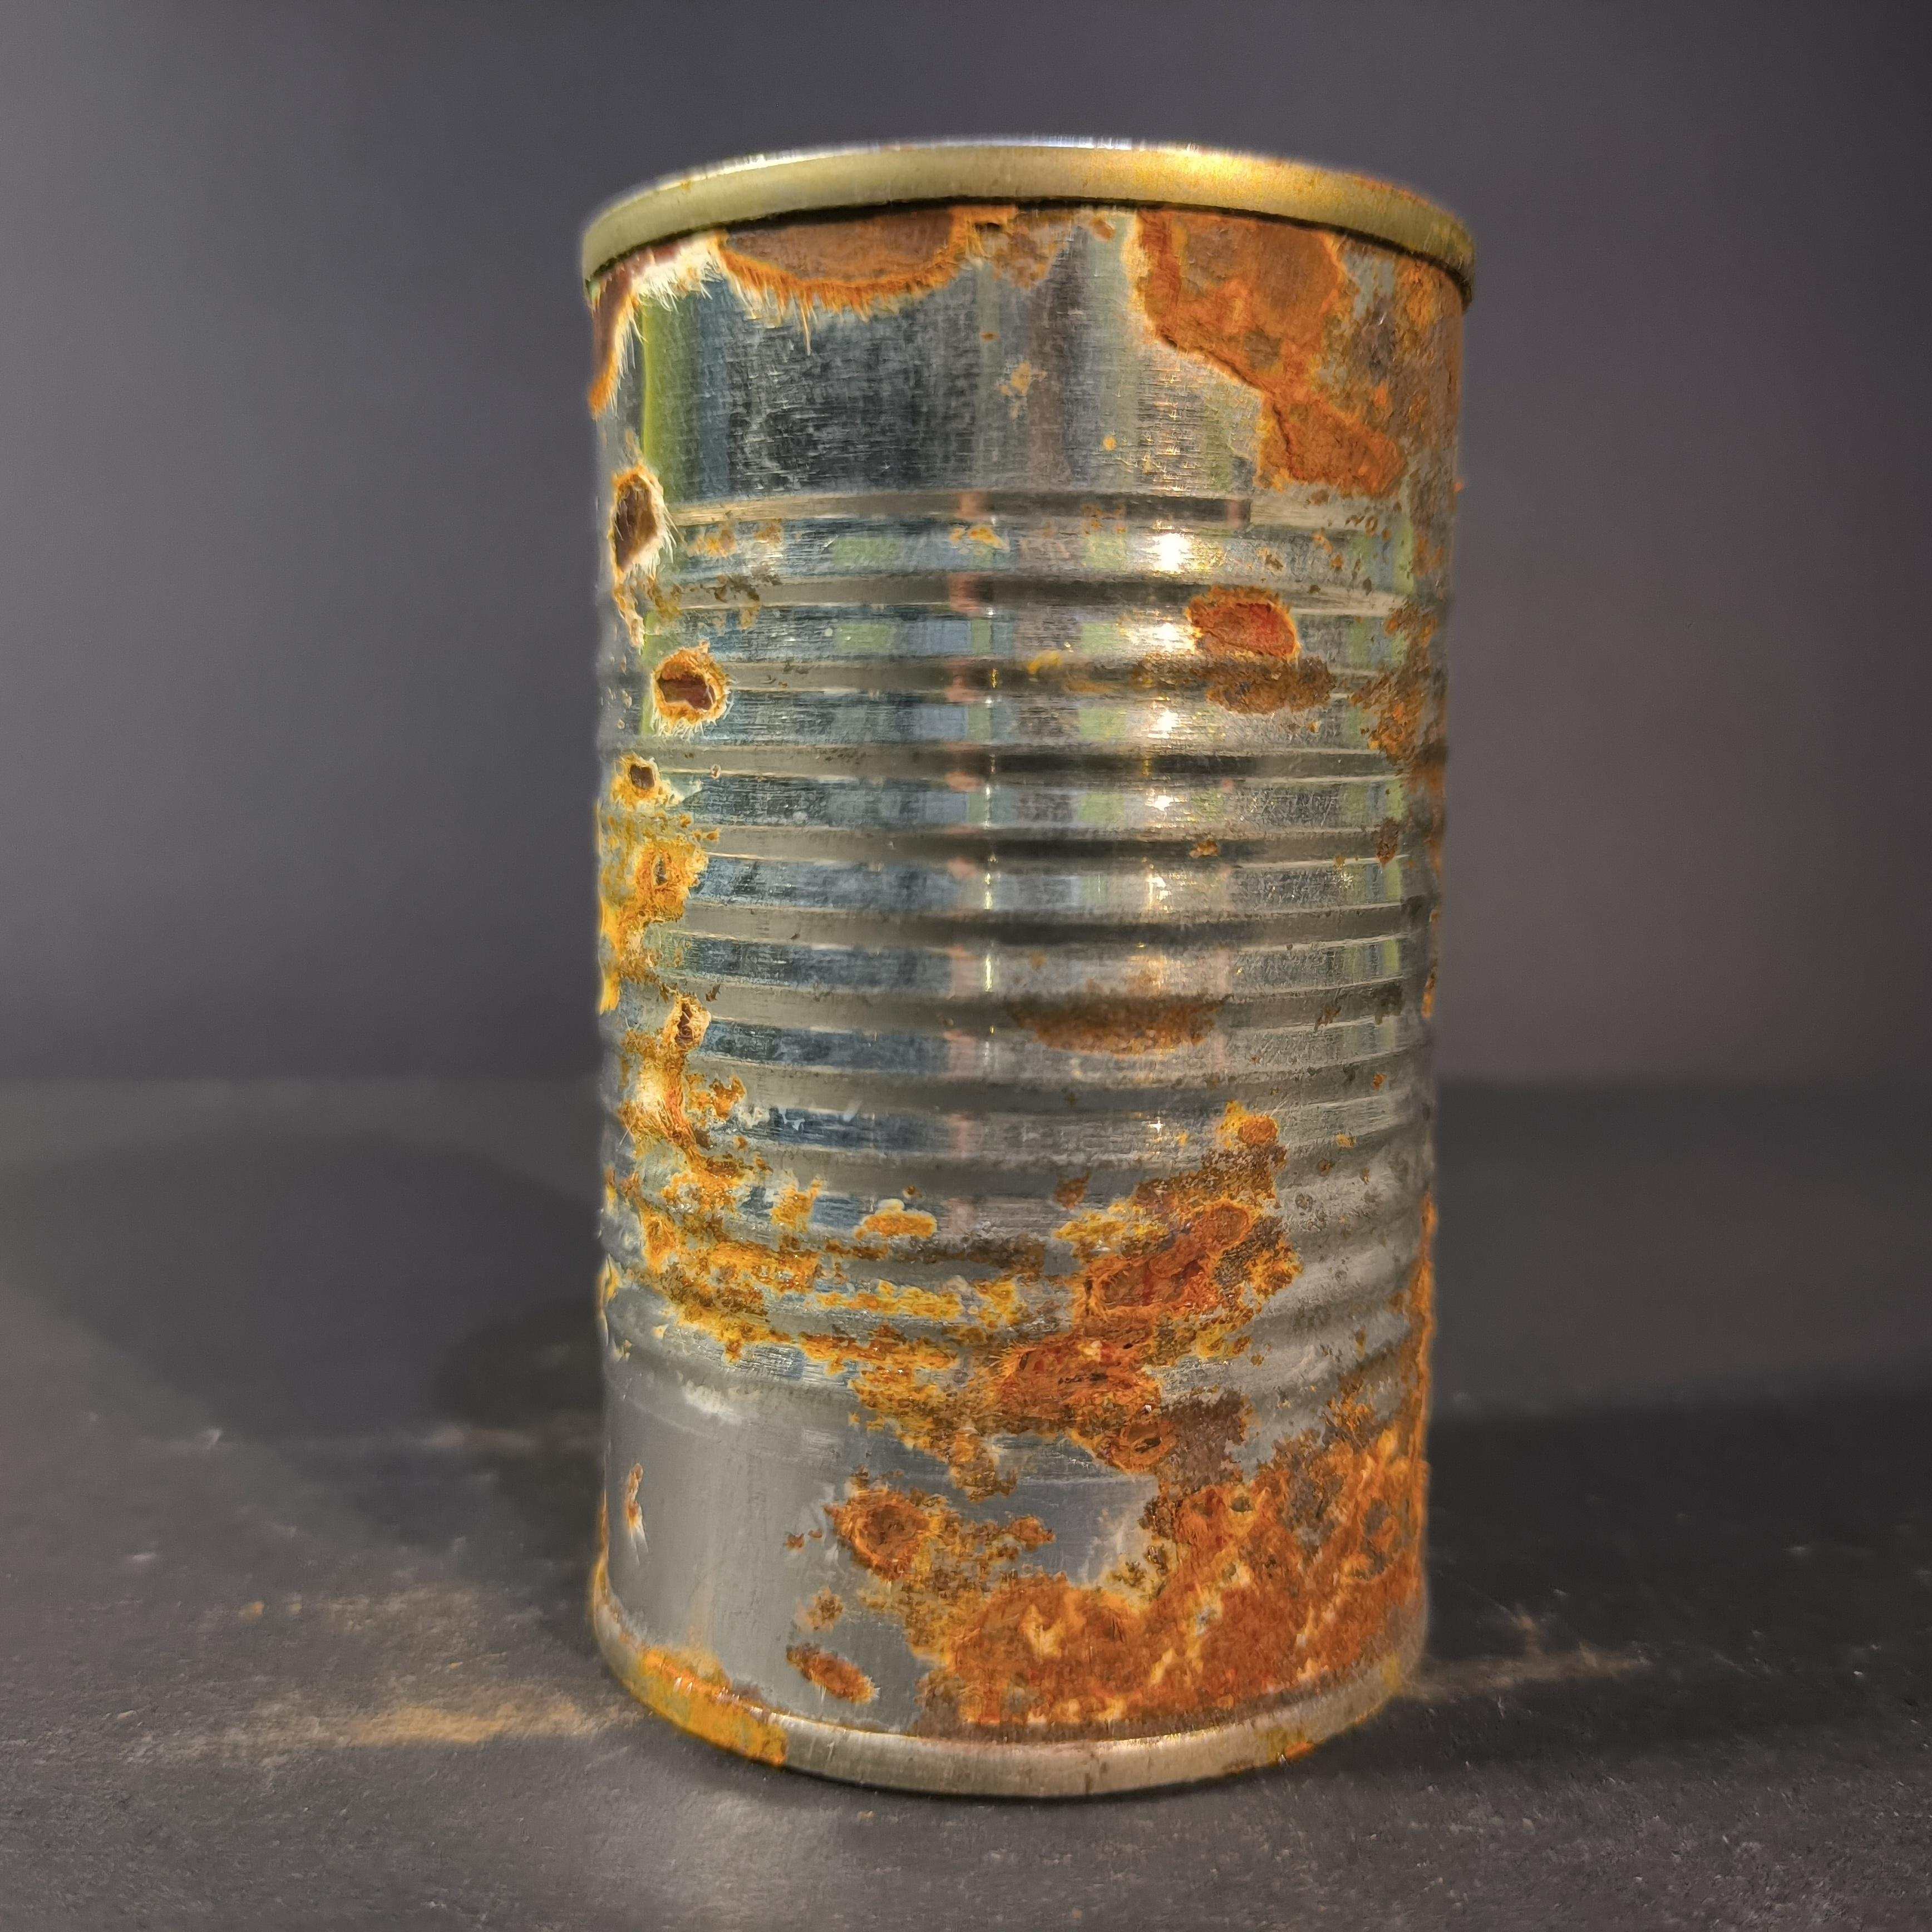Rusted: (554, 120, 1493, 1812)
